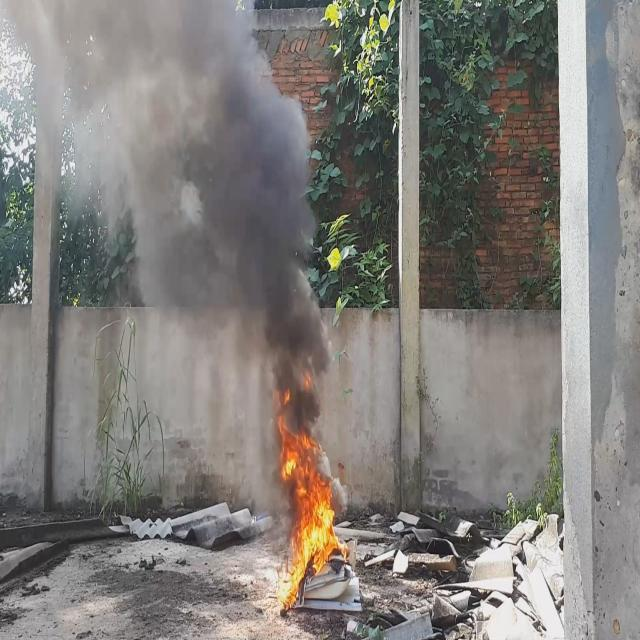Fire: (277, 420, 354, 616)
Smoke: (0, 0, 334, 437)
